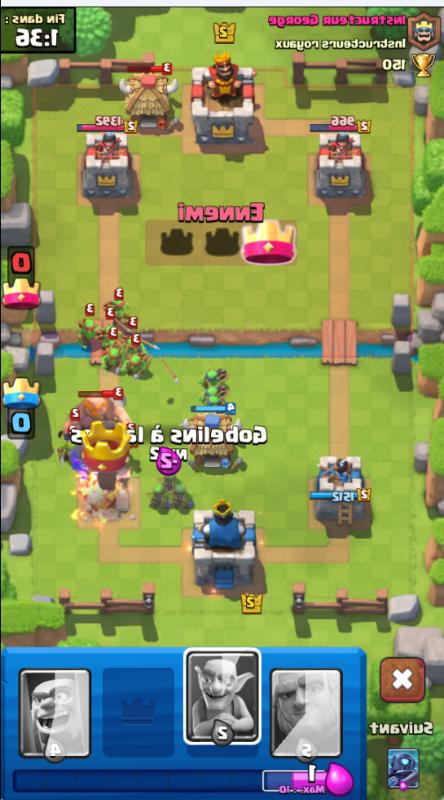geant: (61, 385, 135, 468)
gobelin: (54, 429, 82, 474)
gobelin_lances: (119, 352, 154, 378), (78, 316, 101, 355), (197, 367, 234, 391), (106, 293, 130, 326), (96, 346, 123, 373), (101, 324, 123, 351), (196, 385, 229, 402), (199, 394, 230, 411), (125, 335, 143, 359)
